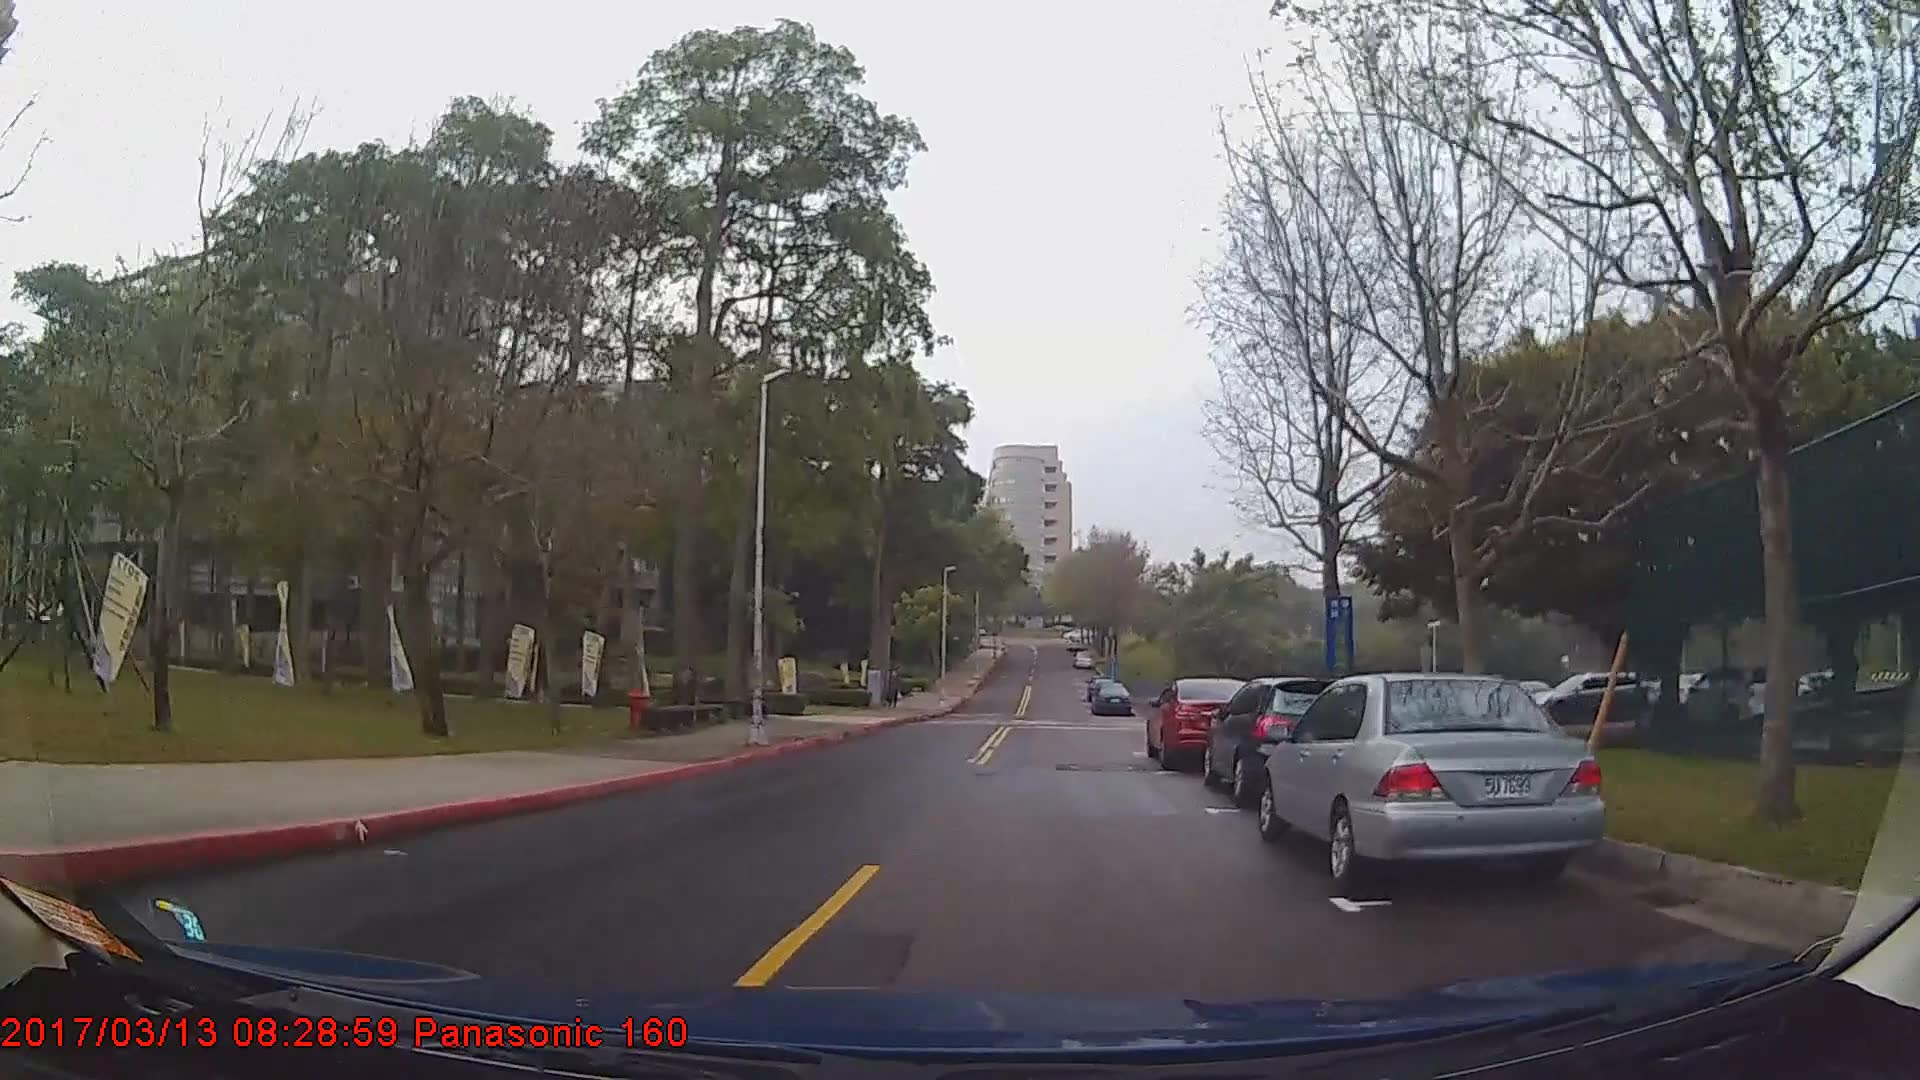vehicle: (1255, 670, 1607, 894), (1197, 676, 1366, 800), (1143, 675, 1261, 773), (1518, 671, 1644, 723), (1679, 663, 1784, 724), (1091, 678, 1131, 715)
